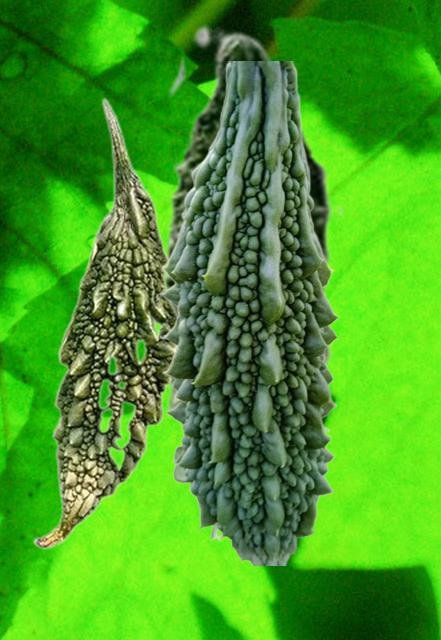ampalaya: (159, 61, 338, 564), (161, 24, 344, 444), (32, 96, 176, 548)
